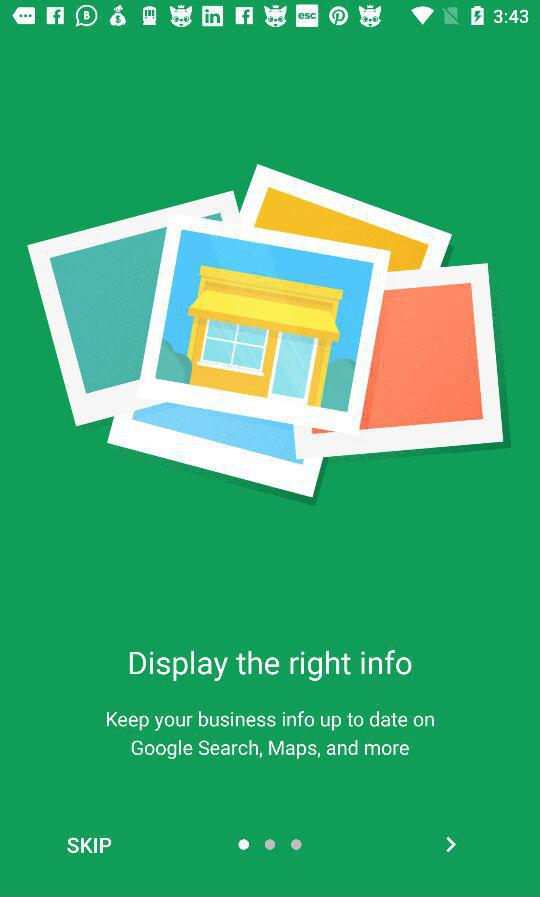Icon: (444, 836, 457, 853)
Image: (27, 162, 512, 505)
PageIndicator: (237, 837, 304, 852)
Text: (105, 710, 435, 763), (129, 649, 412, 683), (67, 836, 112, 855)
UpperTaskBar: (1, 1, 540, 33)
